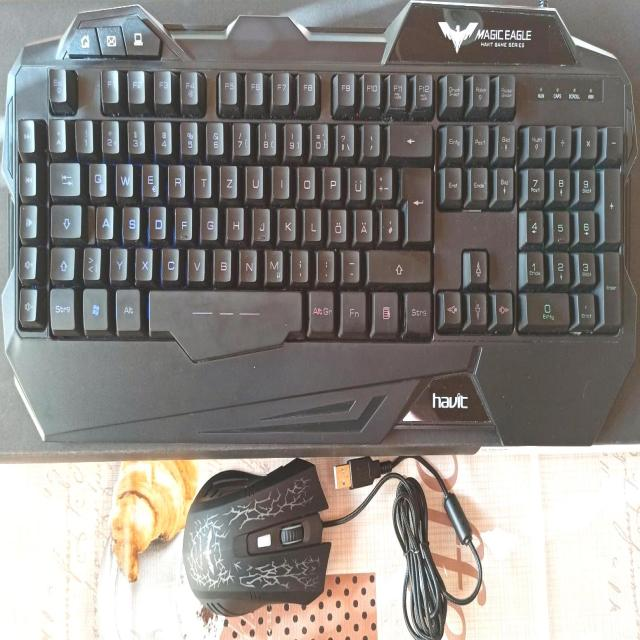0: (308, 119, 328, 155)
1: (74, 116, 93, 151)
2: (100, 116, 119, 152)
3: (125, 117, 145, 153)
4: (153, 117, 171, 153)
5: (179, 118, 198, 154)
6: (205, 118, 224, 154)
7: (231, 118, 251, 155)
8: (256, 119, 276, 155)
9: (282, 119, 301, 155)
a: (95, 202, 113, 238)
accent: (361, 119, 379, 155)
ae: (354, 205, 372, 240)
alt-left: (113, 285, 140, 330)
altgr-right: (307, 288, 333, 332)
b: (212, 245, 231, 280)
c: (160, 245, 179, 279)
caret: (48, 115, 65, 150)
comma: (289, 246, 308, 280)
d: (148, 203, 166, 239)
del: (387, 120, 431, 156)
e: (140, 160, 158, 195)
enter: (398, 163, 430, 242)
f: (173, 204, 192, 239)
g: (199, 204, 217, 239)
h: (225, 204, 243, 239)
hash: (379, 205, 397, 240)
i: (270, 162, 289, 196)
j: (251, 204, 269, 240)
k: (277, 204, 295, 240)
keyboard: (7, 60, 634, 359)
l: (302, 204, 320, 239)
less: (81, 244, 100, 278)
m: (264, 246, 283, 281)
minus: (341, 247, 359, 281)
n: (238, 246, 256, 280)
o: (296, 163, 314, 198)
oe: (328, 206, 346, 241)
p: (322, 163, 340, 198)
plus: (372, 163, 391, 198)
point: (316, 247, 334, 280)
q: (87, 159, 106, 195)
r: (167, 161, 185, 196)
s: (121, 203, 139, 238)
shift-left: (49, 245, 75, 280)
shift-lock: (49, 201, 82, 237)
shift-right: (366, 247, 430, 282)
space: (146, 284, 301, 362)
ss: (334, 120, 353, 155)
strg-left: (48, 285, 75, 330)
strg-right: (403, 288, 431, 334)
t: (193, 161, 211, 196)
tab: (48, 159, 80, 195)
u: (245, 162, 263, 197)
ue: (347, 164, 365, 199)
v: (186, 245, 204, 279)
w: (114, 159, 133, 195)
x: (134, 245, 152, 279)
y: (109, 245, 127, 279)
z: (219, 162, 237, 196)
